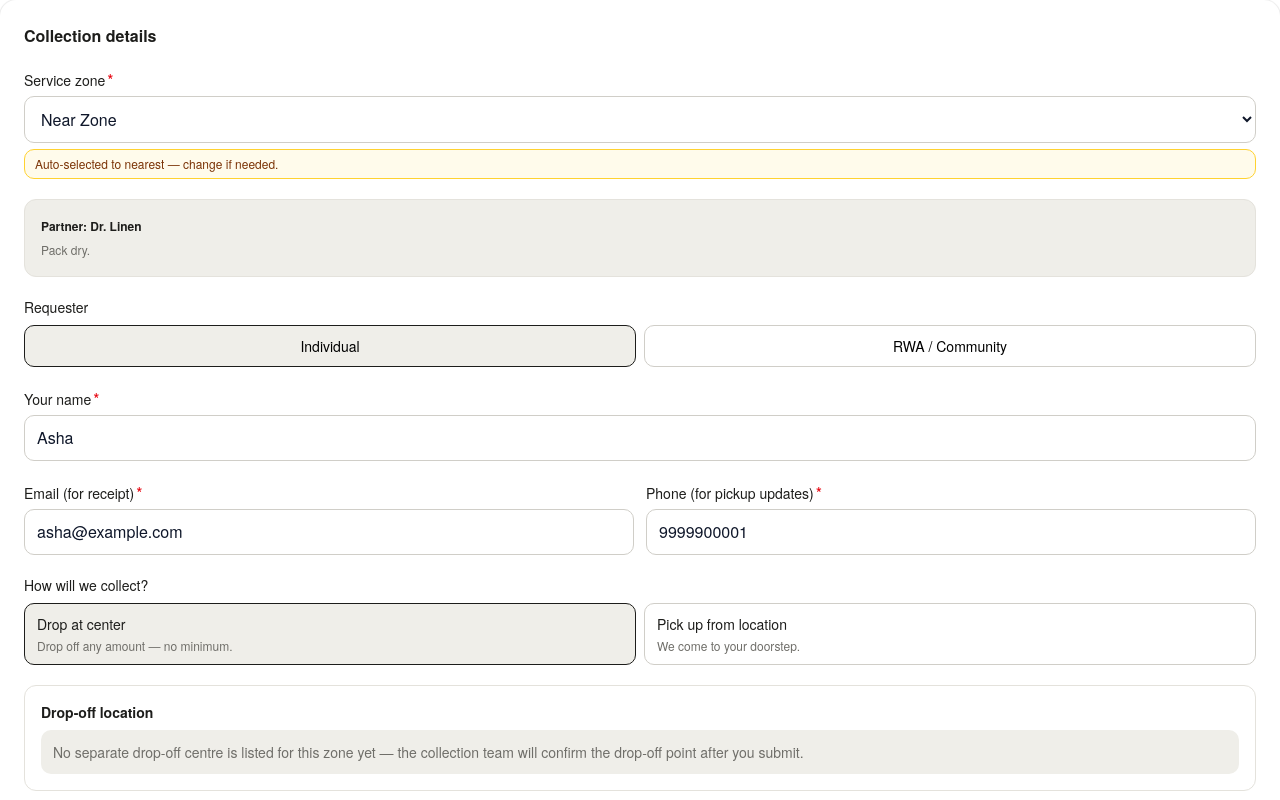
Scenario: TextileCollectionFields — nearest auto-select (#30) › stops auto-selecting the zone after a manual pick
Select "Far Zone" in the dropdown labelled "Service zone" at [640, 120], box x1=24 y1=96 x2=1256 y2=143
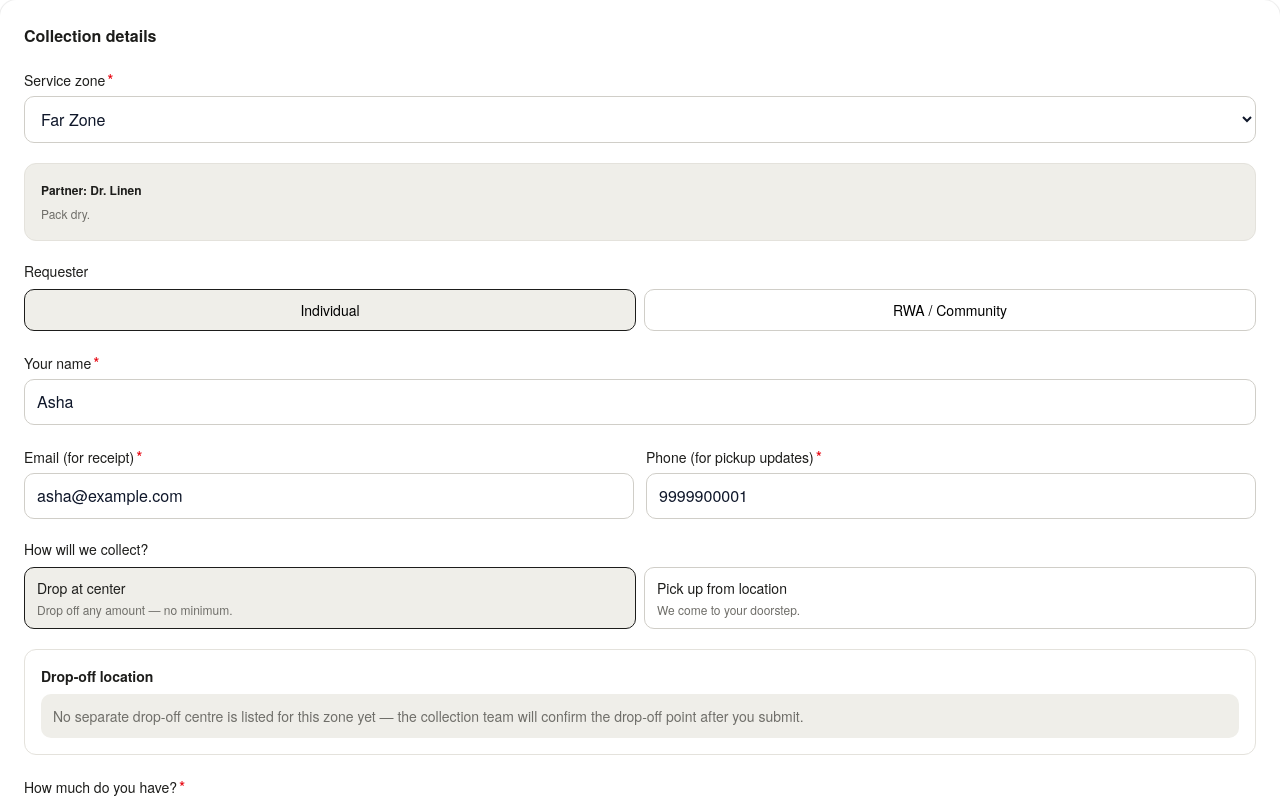
Now the text "Auto-selected to nearest" is gone
